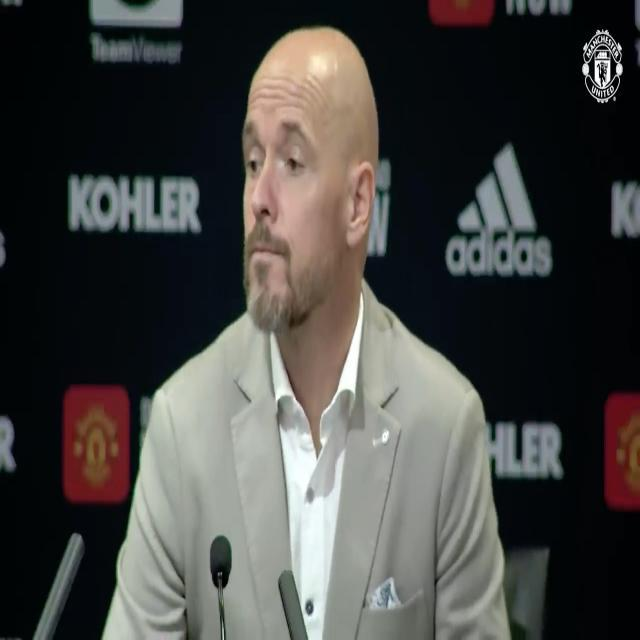Adidas: (445, 140, 552, 278)
Kohler: (68, 175, 202, 234)
TeamViewer: (91, 1, 182, 64)
